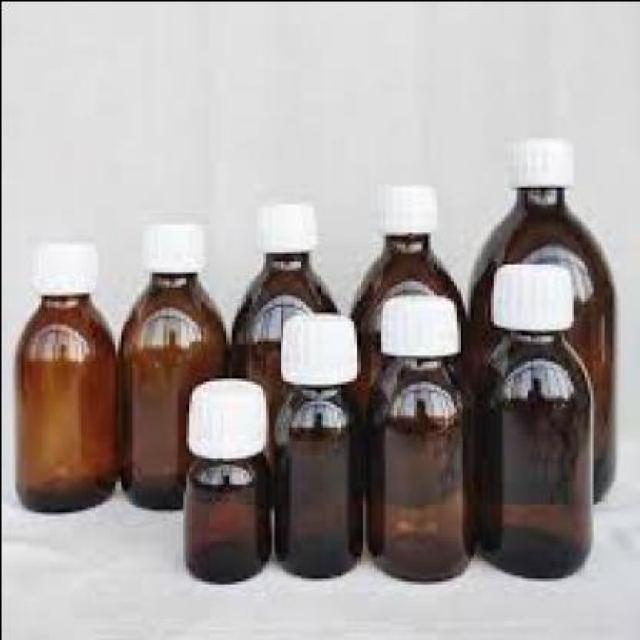glass: (469, 183, 620, 503), (476, 330, 596, 578), (122, 269, 230, 509), (374, 352, 475, 583), (17, 292, 117, 512), (228, 249, 338, 426), (356, 230, 466, 398), (277, 383, 371, 571), (184, 449, 270, 582)
plastic: (492, 257, 578, 329), (191, 376, 271, 452), (282, 309, 358, 380), (382, 289, 464, 349), (34, 240, 100, 289), (516, 131, 576, 183), (144, 220, 204, 269), (378, 180, 438, 229), (258, 203, 316, 249)
